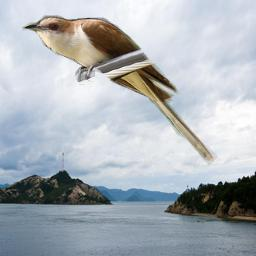Cuckoo: (22, 15, 218, 165)
